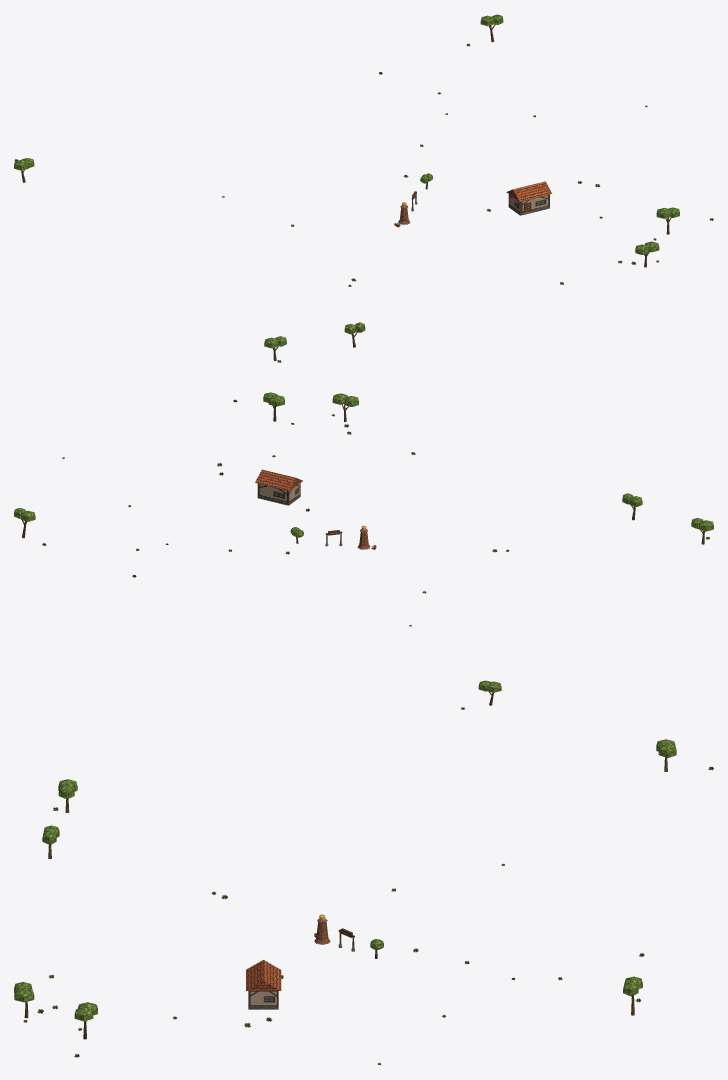
The model's file is FieldCell_0_5.fbx.
The picture shows the model from 3 angles, top to bottom: view 1: azimuth 30°, elevation 25°; view 2: azimuth 150°, elevation 25°; view 3: azimuth 270°, elevation 25°; orthographic projection. The views are drawn at different scales.
Visible parts, largest first — view 1: FieldCell_0_5; view 2: FieldCell_0_5; view 3: FieldCell_0_5.
Part boxes in pixels (box(x1,y1,x2,y2)): FieldCell_0_5: box(14, 14, 679, 360); FieldCell_0_5: box(14, 392, 713, 705); FieldCell_0_5: box(14, 739, 676, 1039).
Size of the model in its own units: 16358 by 2489 by 14270.
